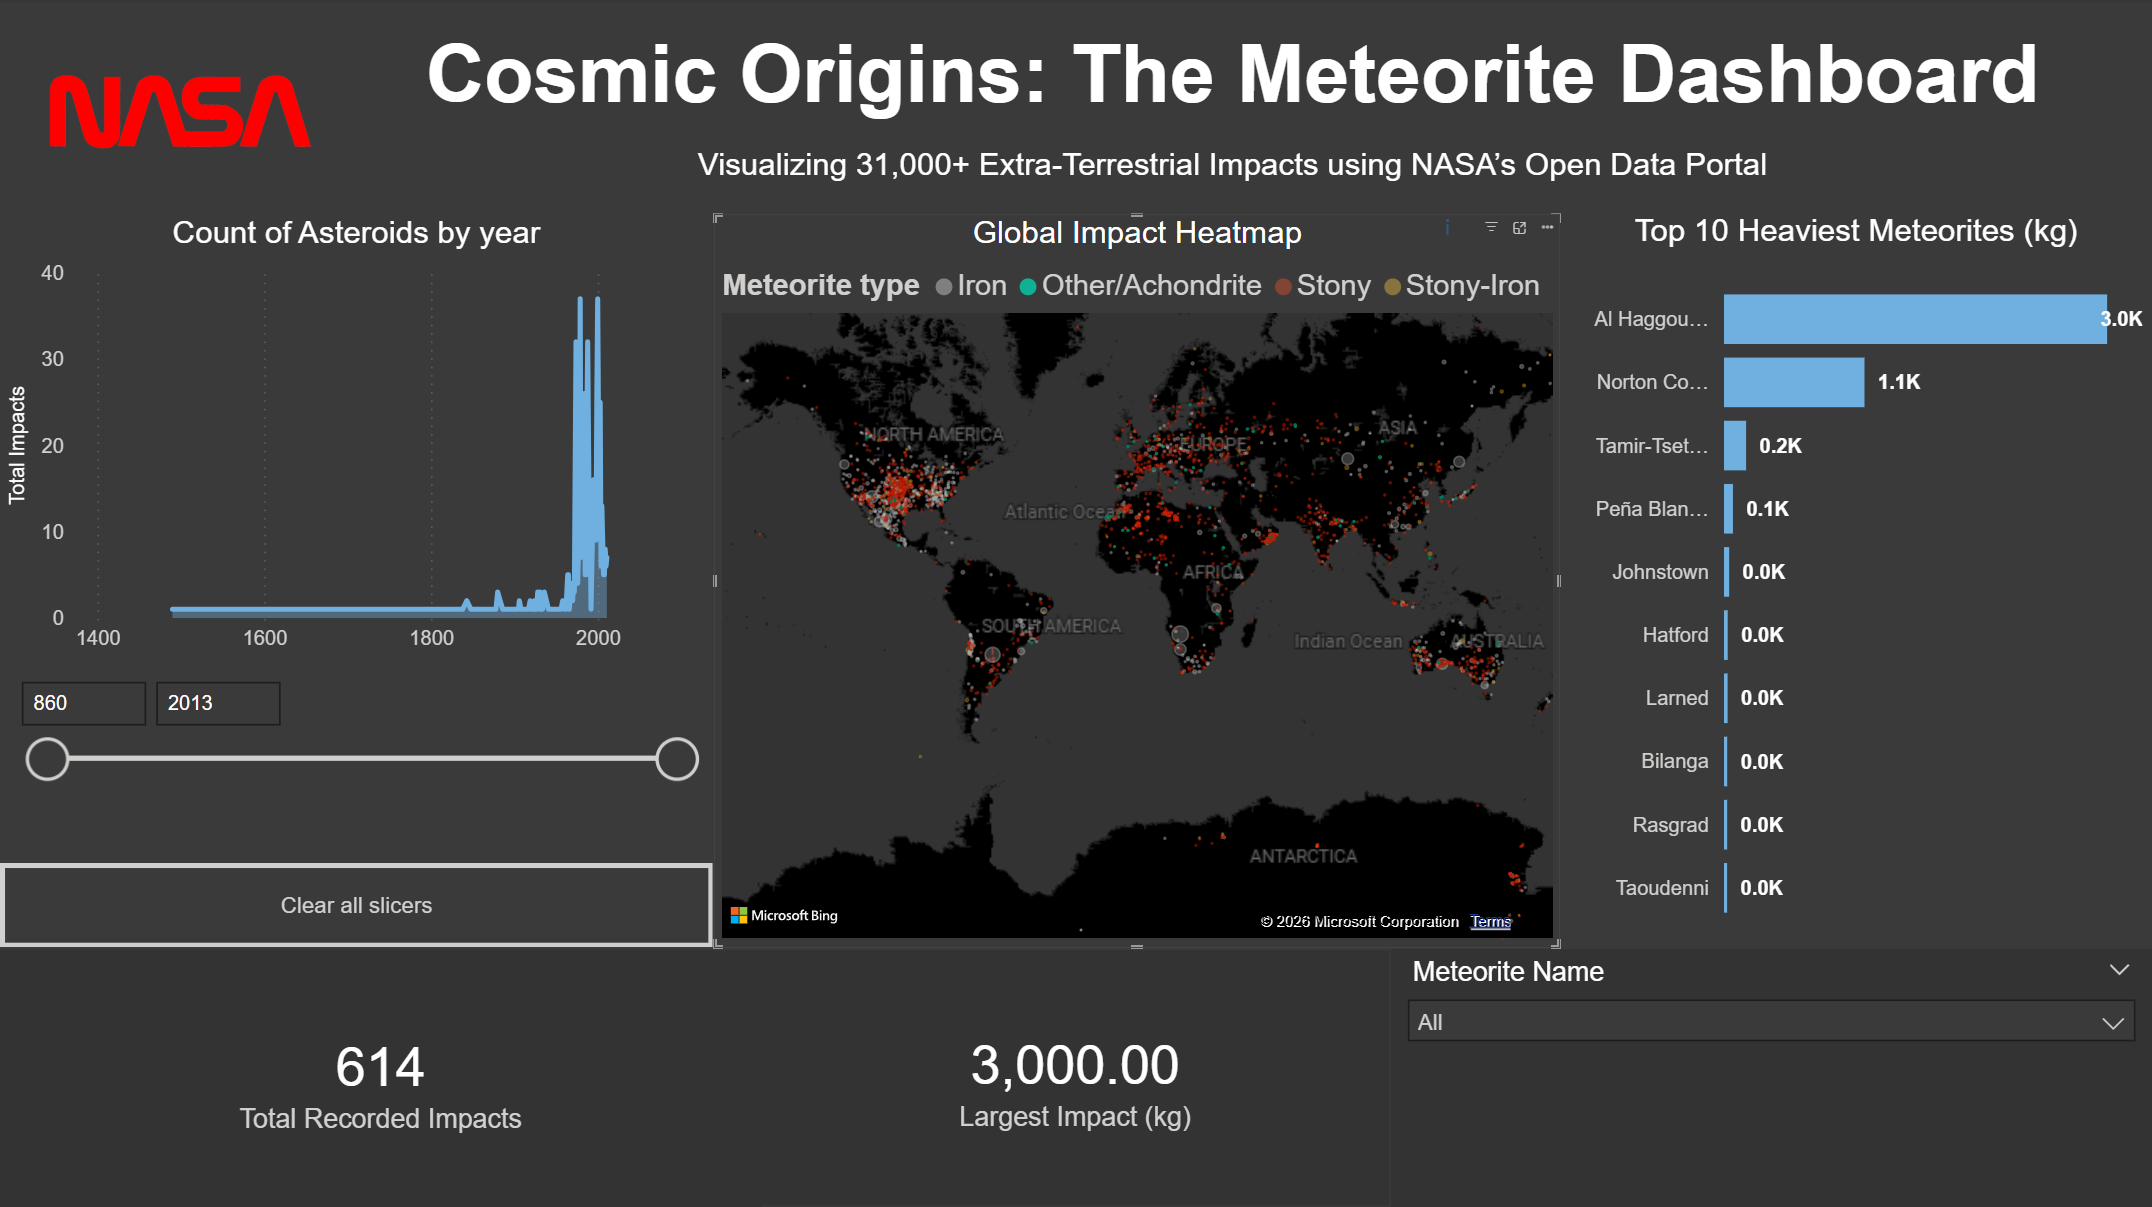

Layout of this report page (visuals, bound fields, positions):
{"tool":"powerbi","page":{"name":"Page 1","canvas":[1280,720],"ordinal":0},"visuals":[{"type":"map","title":"Global Impact Heatmap","fields":{"Y":["Meteorite_Landings.reclat"],"X":["Meteorite_Landings.reclong"],"Size":["Sum(Meteorite_Landings.mass (g))"],"Series":["Meteorite_Landings.Meteorite type"]},"box":[424.6,128,503.9,436.8],"z":0},{"type":"card","fields":{"Values":["Count(Meteorite_Landings.name)"]},"box":[0,565.8,453.1,154.4],"z":1000},{"type":"areaChart","title":"Count of Asteroids by year","fields":{"Category":["Meteorite_Landings.year"],"Y":["CountNonNull(Meteorite_Landings.name)"]},"box":[0,127.9,424.3,268.4],"z":2000},{"type":"slicer","title":"Year Slicer","fields":{"Values":["Meteorite_Landings.year"]},"box":[0,396.3,424.3,118.4],"z":3000},{"type":"actionButton","box":[0,514,424.5,50.4],"z":4000},{"type":"card","fields":{"Values":["Meteorite_Landings.Largest Impact (kg)"]},"box":[453.1,565.8,373.8,152.4],"z":5000},{"type":"textbox","box":[186.9,12.5,1093.1,115],"z":6000},{"type":"slicer","fields":{"Values":["Meteorite_Landings.name"]},"box":[827.5,565,452.5,154.4],"z":7000},{"type":"image","box":[28.6,7.7,158.3,119],"z":8000},{"type":"clusteredBarChart","title":"Top 10 Heaviest Meteorites (kg)","fields":{"Category":["Meteorite_Landings.name"],"Y":["Meteorite_Landings.Largest Impact (kg)"]},"box":[928.7,126.9,351.3,437.5],"z":9000}]}

Visuals, with their boxes in screenshot pixels (x1, y1, x2, y2), scaled from the page's 1280x720 canvas onto the 2152x1207 screenshot:
"Global Impact Heatmap" map: <bbox>714, 215, 1561, 947</bbox>
card - Count(Meteorite_Landings.name): <bbox>0, 949, 762, 1206</bbox>
"Count of Asteroids by year" areaChart: <bbox>0, 214, 713, 664</bbox>
"Year Slicer" slicer: <bbox>0, 664, 713, 863</bbox>
actionButton: <bbox>0, 862, 714, 946</bbox>
card - Meteorite_Landings.Largest Impact (kg): <bbox>762, 949, 1390, 1204</bbox>
textbox: <bbox>314, 21, 2151, 214</bbox>
slicer - Meteorite_Landings.name: <bbox>1391, 947, 2151, 1206</bbox>
image: <bbox>48, 13, 314, 212</bbox>
"Top 10 Heaviest Meteorites (kg)" clusteredBarChart: <bbox>1561, 213, 2151, 946</bbox>
